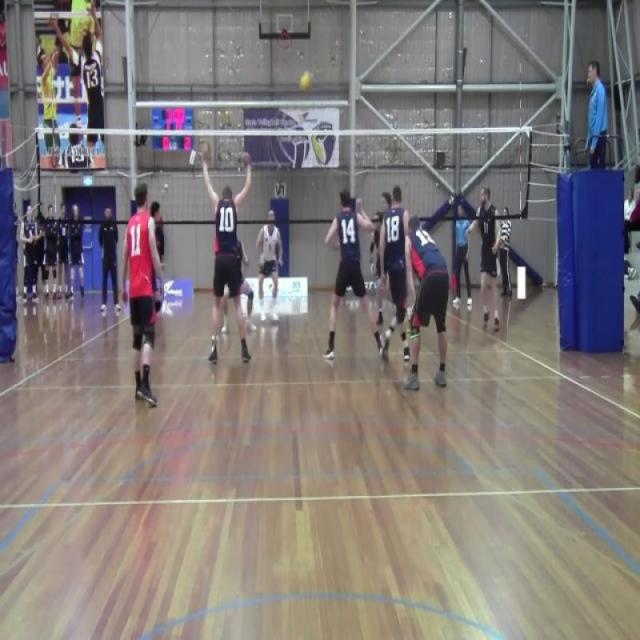volleyball: (297, 67, 316, 96)
